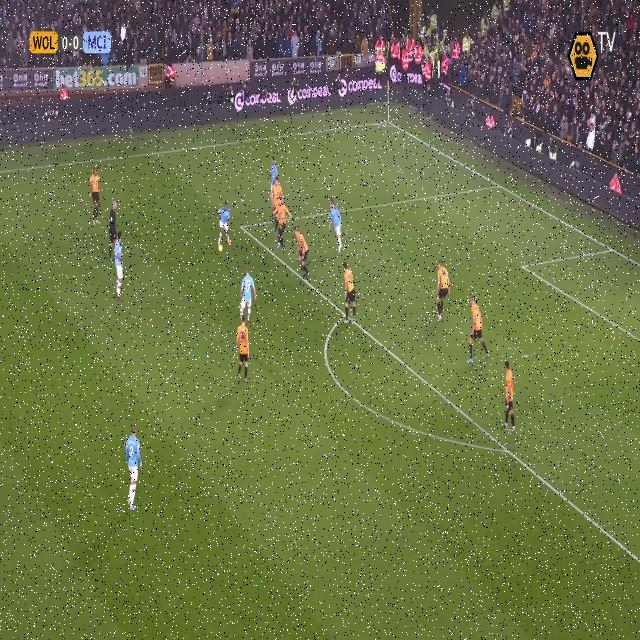Ball: (217, 244, 226, 252)
TEAM 1: (466, 293, 490, 366), (274, 196, 294, 254), (435, 259, 451, 323), (504, 359, 518, 432), (236, 318, 251, 386), (89, 167, 103, 227), (343, 262, 357, 321), (295, 226, 311, 275), (270, 176, 283, 212)
TEAM 2: (126, 428, 142, 514), (112, 229, 128, 305), (239, 265, 258, 324), (329, 200, 344, 253), (218, 203, 233, 254), (270, 150, 280, 183)
